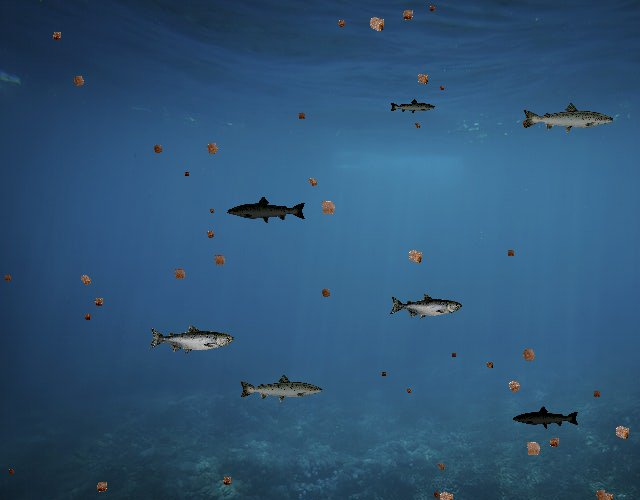Fish: (521, 102, 615, 135), (238, 373, 324, 404), (148, 324, 234, 355), (226, 196, 307, 225), (389, 293, 462, 320), (512, 405, 580, 430), (389, 98, 436, 115)
Pellet: (516, 342, 542, 368), (502, 374, 527, 399), (75, 269, 96, 291), (482, 358, 497, 372), (426, 2, 439, 15), (206, 206, 216, 216)
